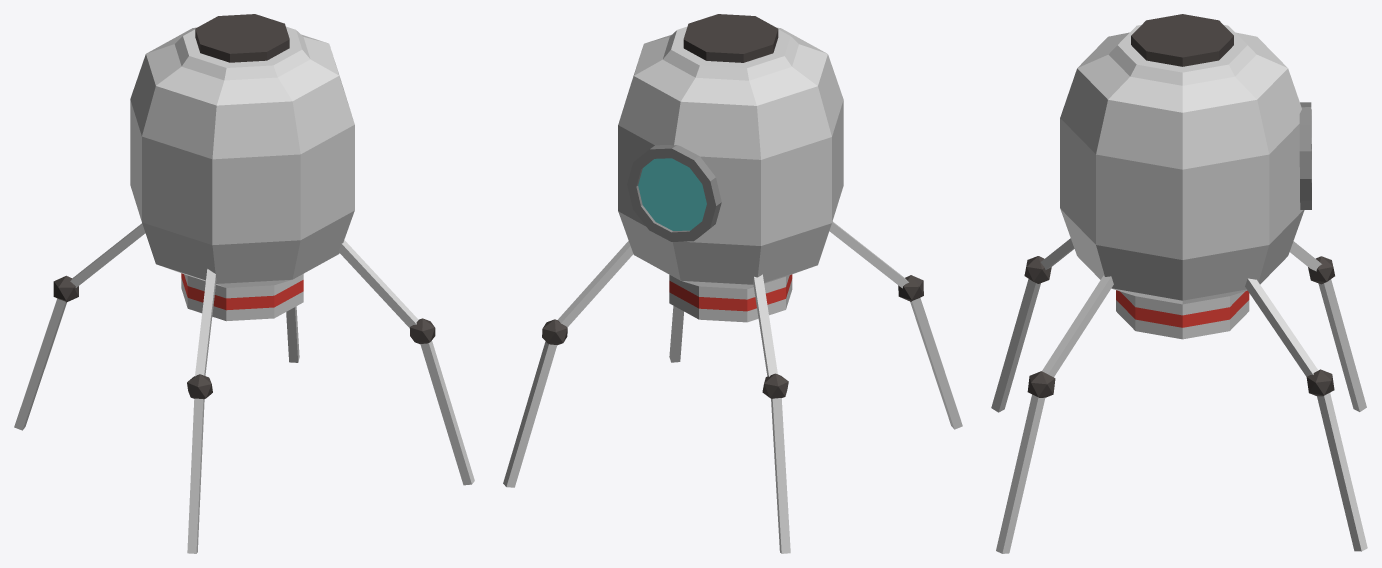
The model's file is Space_object2.fbx.
3 views of the same model, side by side, from view 1: azimuth 30°, elevation 25°; view 2: azimuth 150°, elevation 25°; view 3: azimuth 270°, elevation 25° (orthographic). The views are drawn at different scales.
Visible parts, largest first — view 1: Circle.009; view 2: Circle.009; view 3: Circle.009.
Part boxes in pixels (<box>): Circle.009: <box>14,14,474,553</box>; Circle.009: <box>503,14,962,553</box>; Circle.009: <box>991,14,1367,553</box>.
Size of the model in its own units: 621 by 861 by 660.
